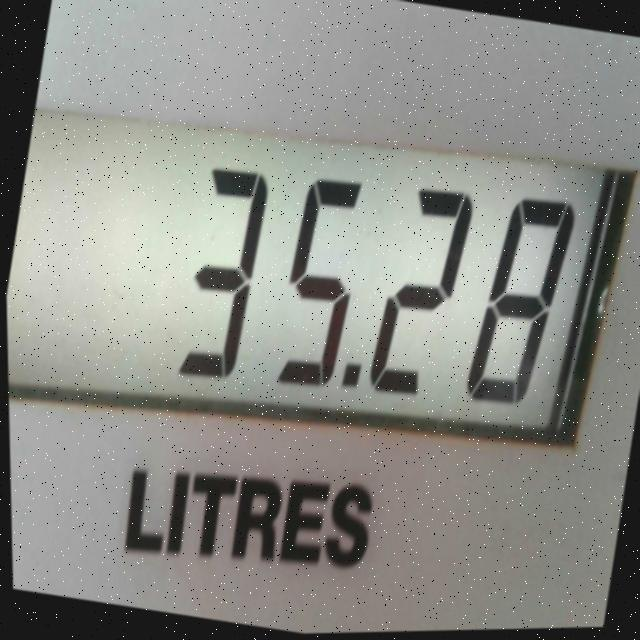.: (328, 337, 374, 411)
2: (360, 187, 475, 417)
3: (168, 144, 280, 390)
5: (262, 177, 370, 396)
8: (458, 199, 573, 421)
